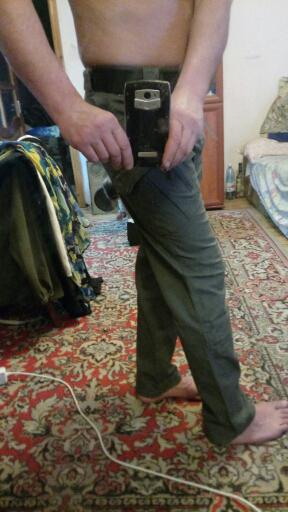pants: (81, 65, 259, 444)
